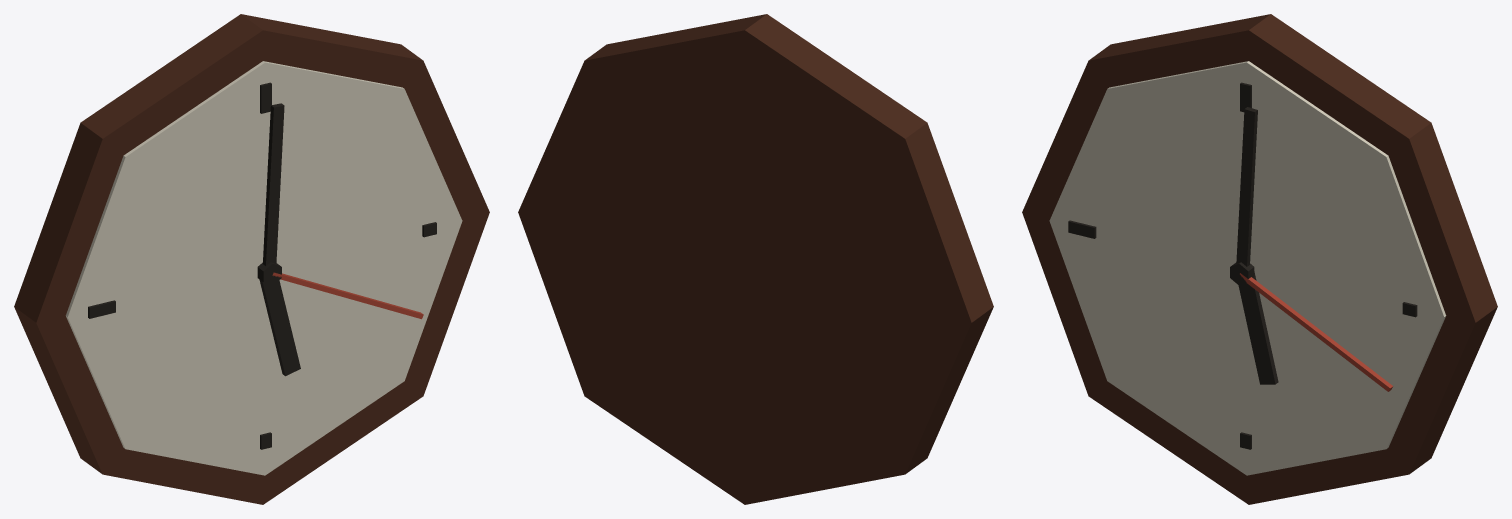
File: wall-clock-15.glb
3 renders of one model, left to right at view 1: azimuth 30°, elevation 25°; view 2: azimuth 150°, elevation 25°; view 3: azimuth 330°, elevation 25°, orthographic.
Visible parts, largest first — view 1: wall_clock_15; view 2: wall_clock_15; view 3: wall_clock_15.
Boxes of the visible parts, box(x1,y1,x2,y2) form: wall_clock_15: box(14, 14, 489, 504); wall_clock_15: box(518, 14, 993, 504); wall_clock_15: box(1022, 14, 1497, 504).
Size of the model in its own units: 0.514 by 0.514 by 0.0626.
